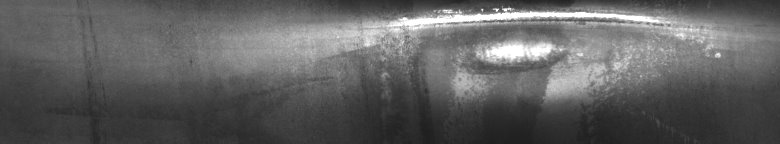ke: (364, 4, 721, 97)
